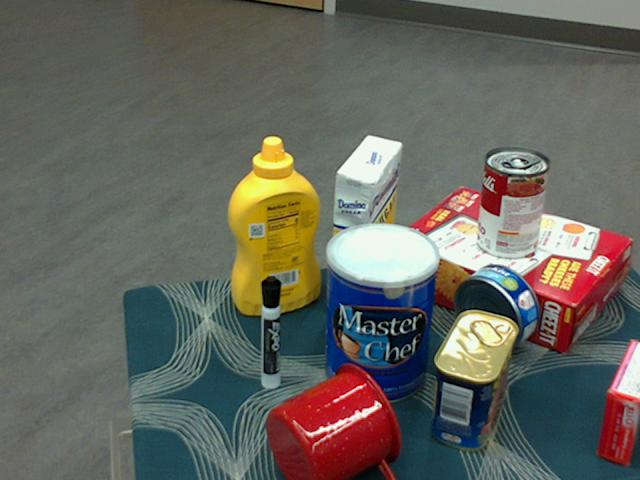cracker_box: (389, 188, 628, 350)
gelatin_box: (595, 340, 639, 465)
large_marker: (258, 275, 279, 390)
master_chef_can: (325, 223, 441, 406)
mug: (265, 363, 402, 479)
mustard_bottle: (227, 136, 320, 316)
potted_meat_can: (431, 310, 518, 451)
sugar_box: (327, 136, 402, 324)
tomato_soup_can: (477, 148, 549, 261)
tuna_fish_can: (454, 263, 541, 351)
